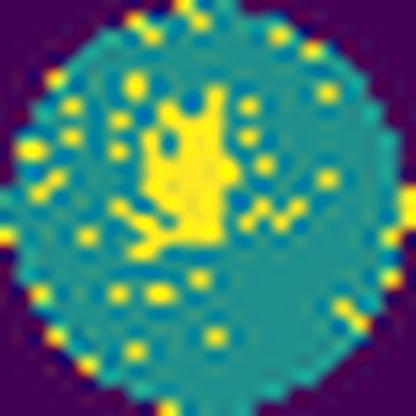Center: (109, 82, 239, 258)
